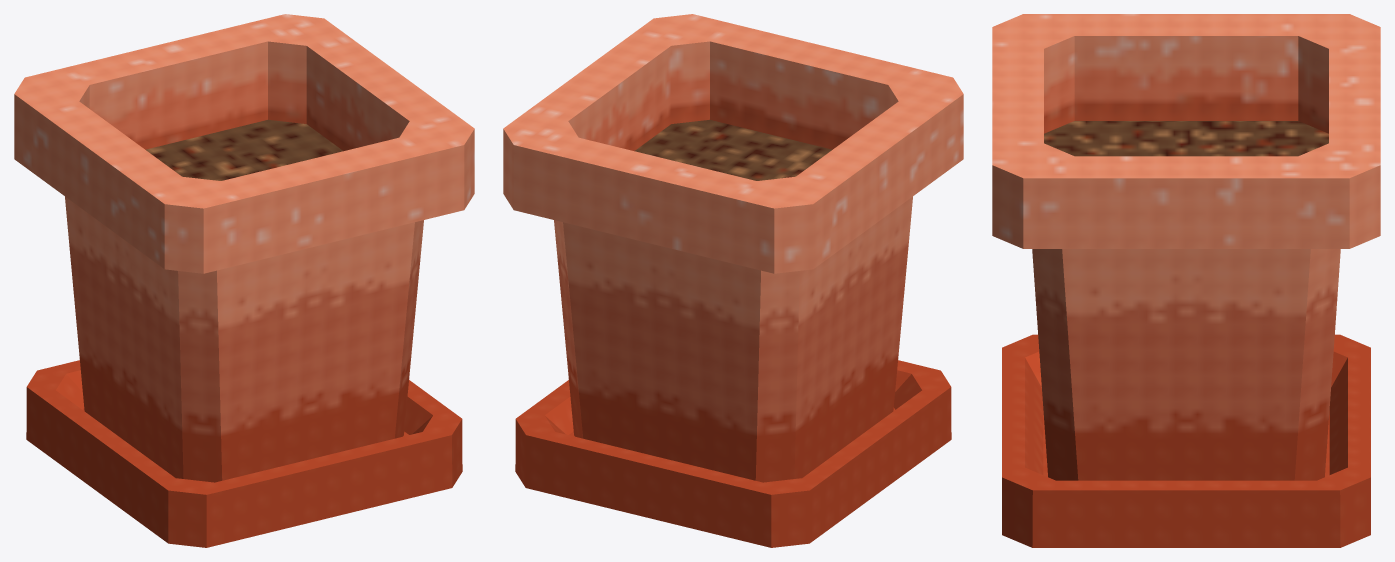
The model's file is FlowerPot1x1.fbx.
3 renders of one model, left to right at view 1: azimuth 30°, elevation 25°; view 2: azimuth 150°, elevation 25°; view 3: azimuth 270°, elevation 25°, orthographic. The views are drawn at different scales.
Visible parts, largest first — view 1: Cube.001; view 2: Cube.001; view 3: Cube.001.
Part boxes in pixels (x1,y1,x2,y2): Cube.001: (14,14,474,547); Cube.001: (503,14,963,547); Cube.001: (992,14,1380,547).
Bounding box in the file's own units: 93.96 × 99.78 × 93.96.
Materials: 1 (1 with a texture image).
